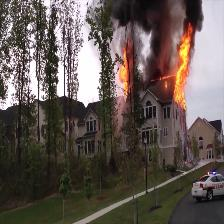fire: (178, 28, 190, 107), (117, 53, 131, 94)
smoke: (116, 0, 204, 27), (145, 29, 170, 79)
